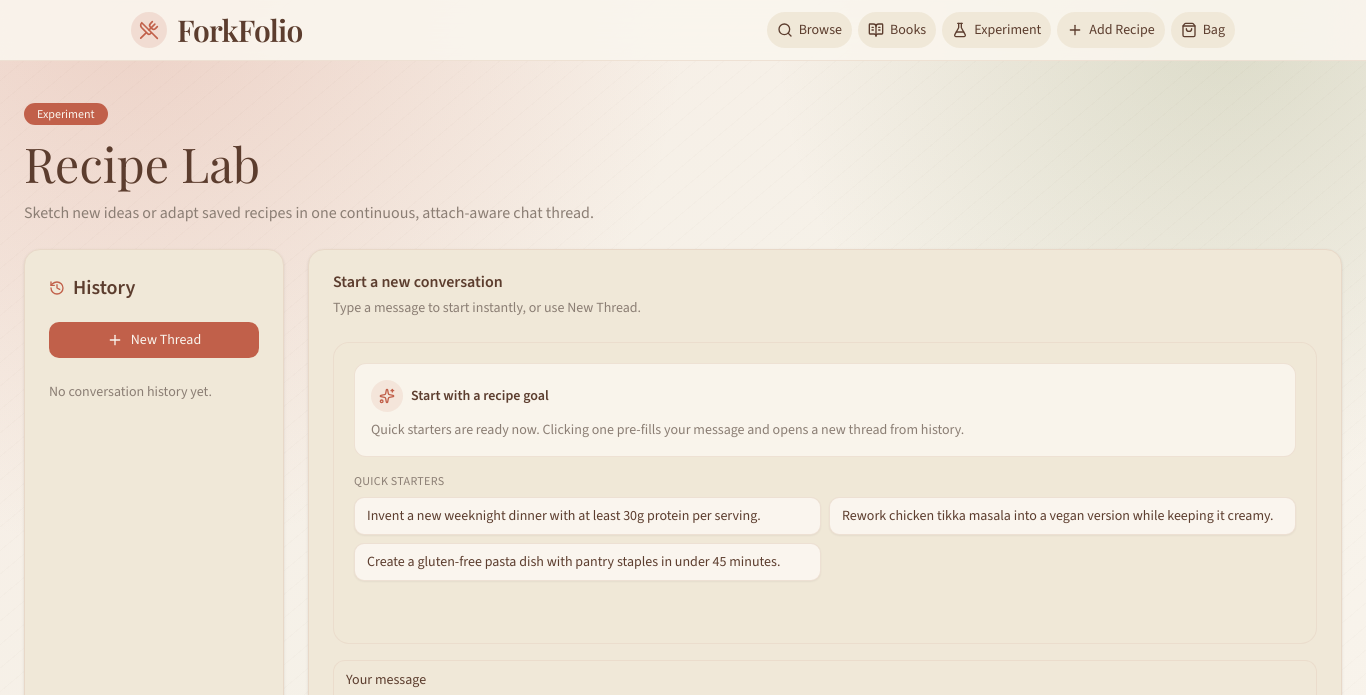
/experiment page › keeps streamed content when final event is missing without reloading thread
Click the button "New Thread".
click(154, 340)  # box [49, 322, 259, 358]
(page scrolled)
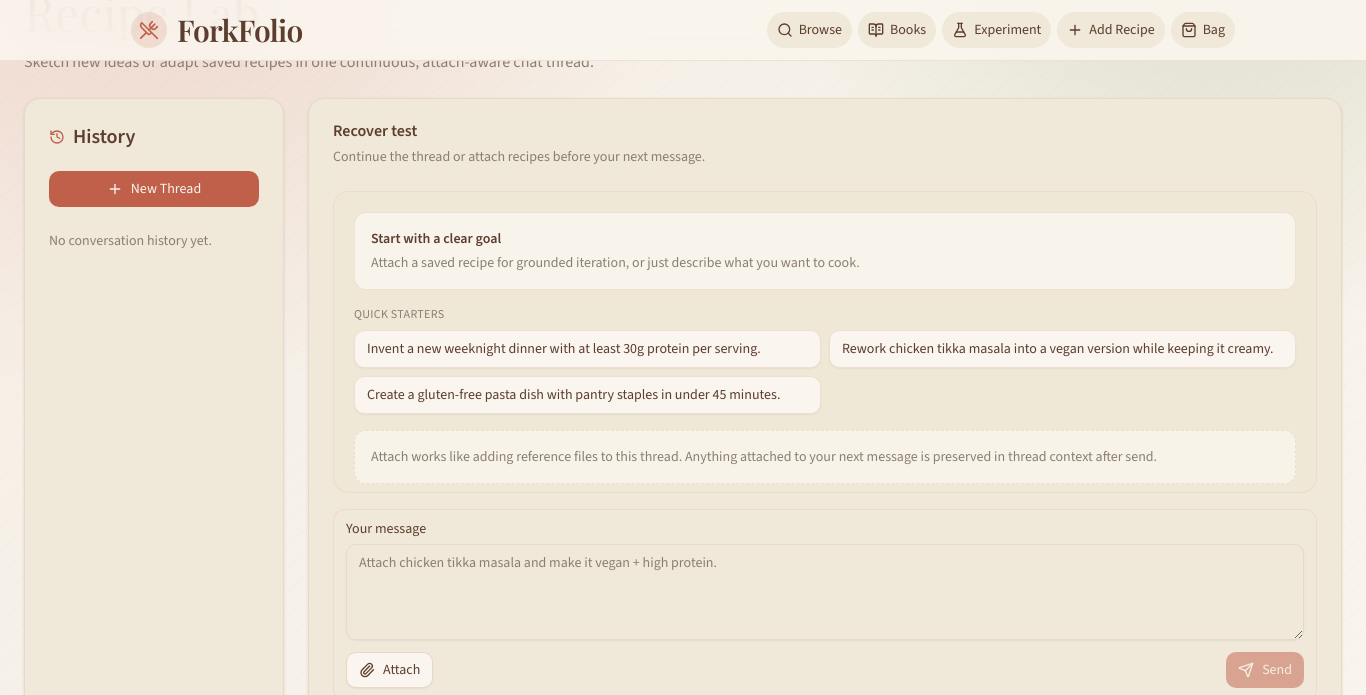
Type "Help me make dinner" into the text box labelled "Your message".
click(825, 592); type("Help me make dinner")  # box [346, 544, 1304, 640]
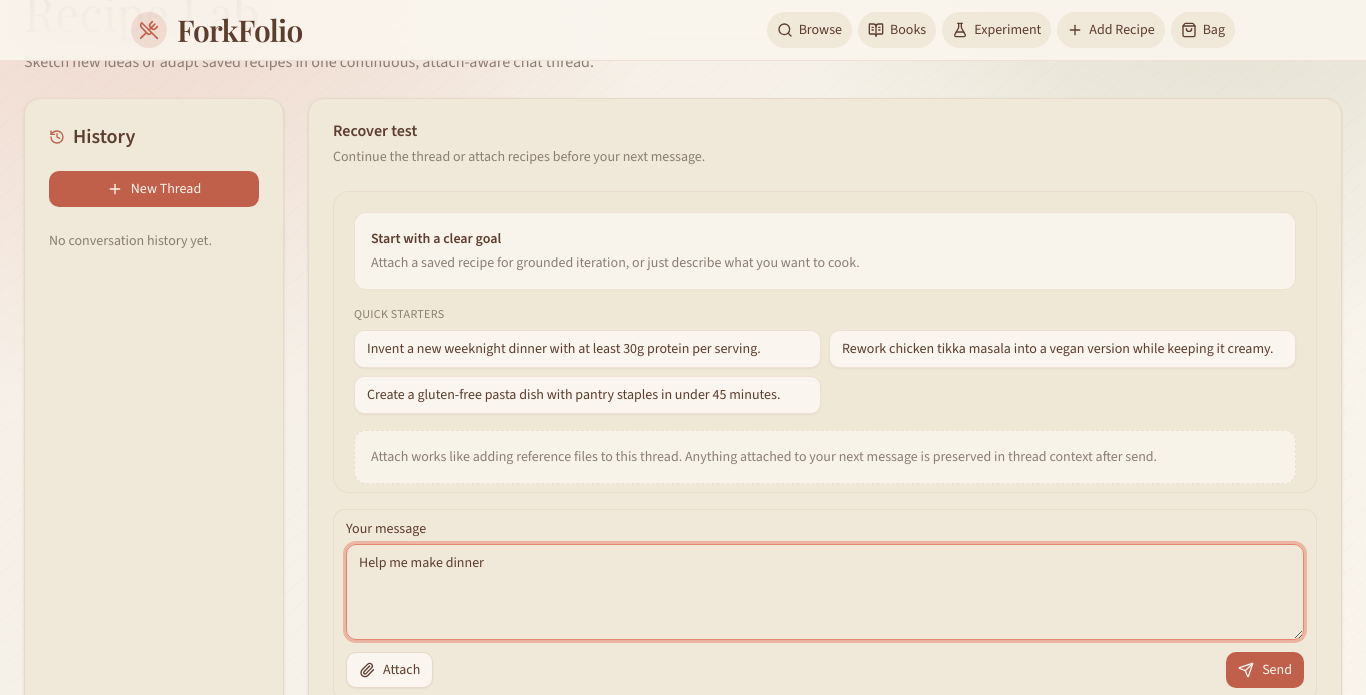
Click the button "Send".
click(1265, 670)  # box [1226, 652, 1304, 688]
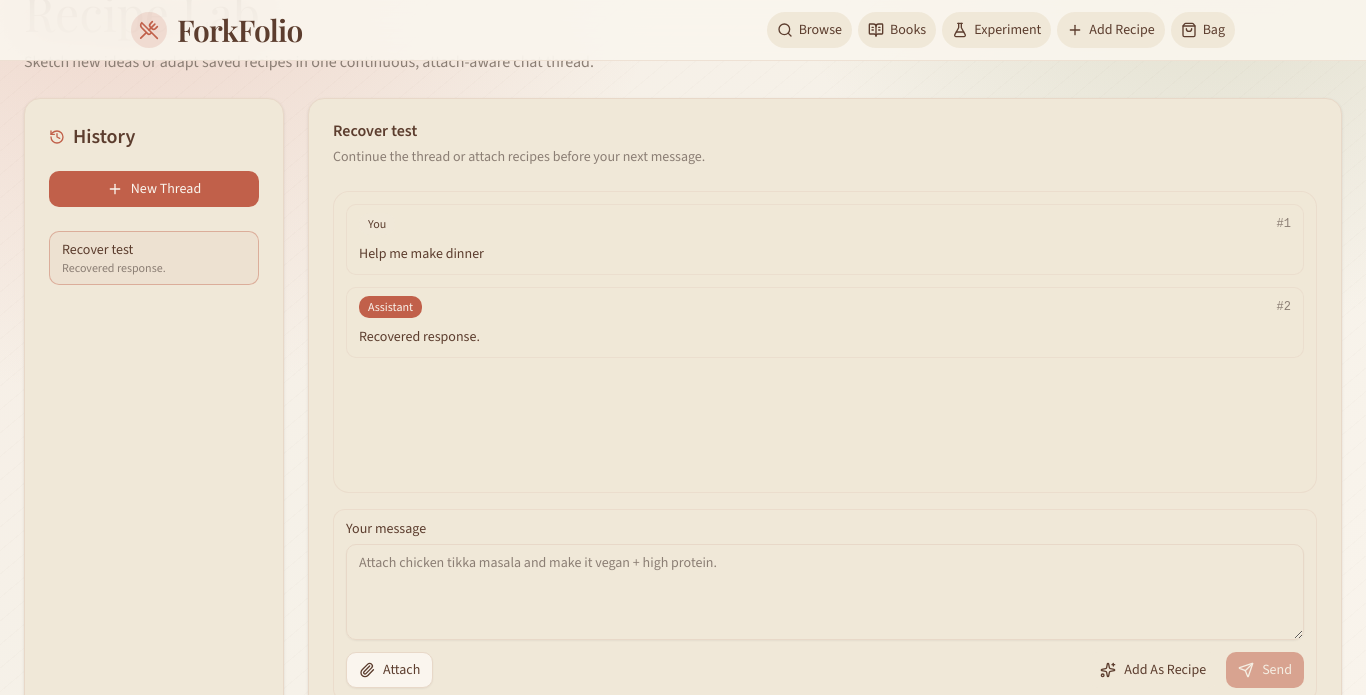
Expected: the text "Recovered response." below "History" is shown, [62, 260, 166, 276]
